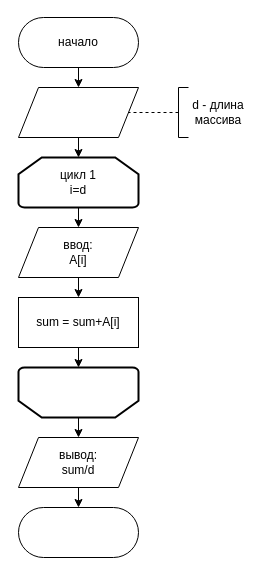
This 265x575 diagram has some shape labels left out. The box of each missing label's shape, as (x1, y1, x2, y2) in pixels:
ввод: d: (18, 86, 138, 138)
конец: (18, 506, 138, 558)
цикл 1: (17, 366, 139, 418)
